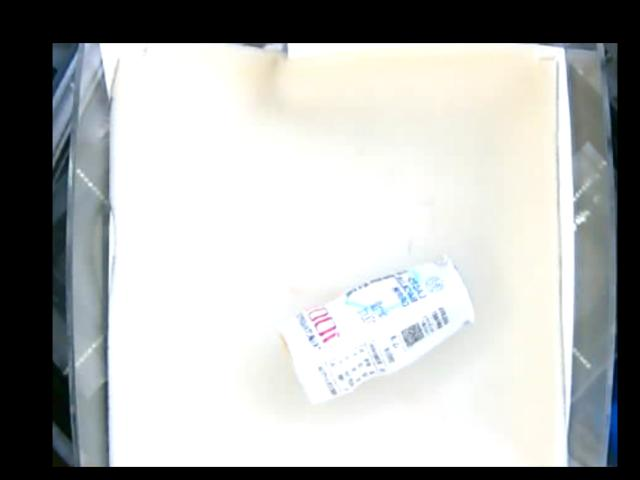Bottle: (278, 257, 475, 399)
